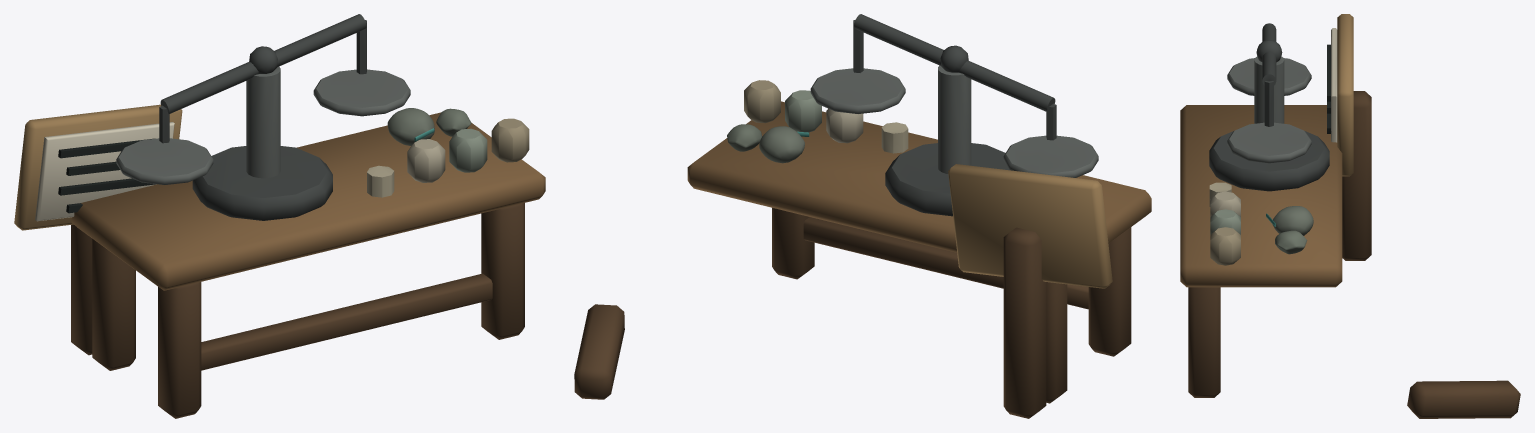
File: assay_bench_b.glb
3 renders of one model, left to right at view 1: azimuth 30°, elevation 25°; view 2: azimuth 150°, elevation 25°; view 3: azimuth 270°, elevation 25°, orthographic. The views are drawn at different scales.
Parts seen in each view (by area): view 1: Surface; view 2: Surface; view 3: Surface.
Part boxes in pixels (bbox=[...]): Surface: bbox=[14, 14, 545, 418]; Surface: bbox=[574, 14, 1151, 418]; Surface: bbox=[1180, 14, 1520, 418].
Bounding box in the file's own units: 3.02 × 1.92 × 2.1.
